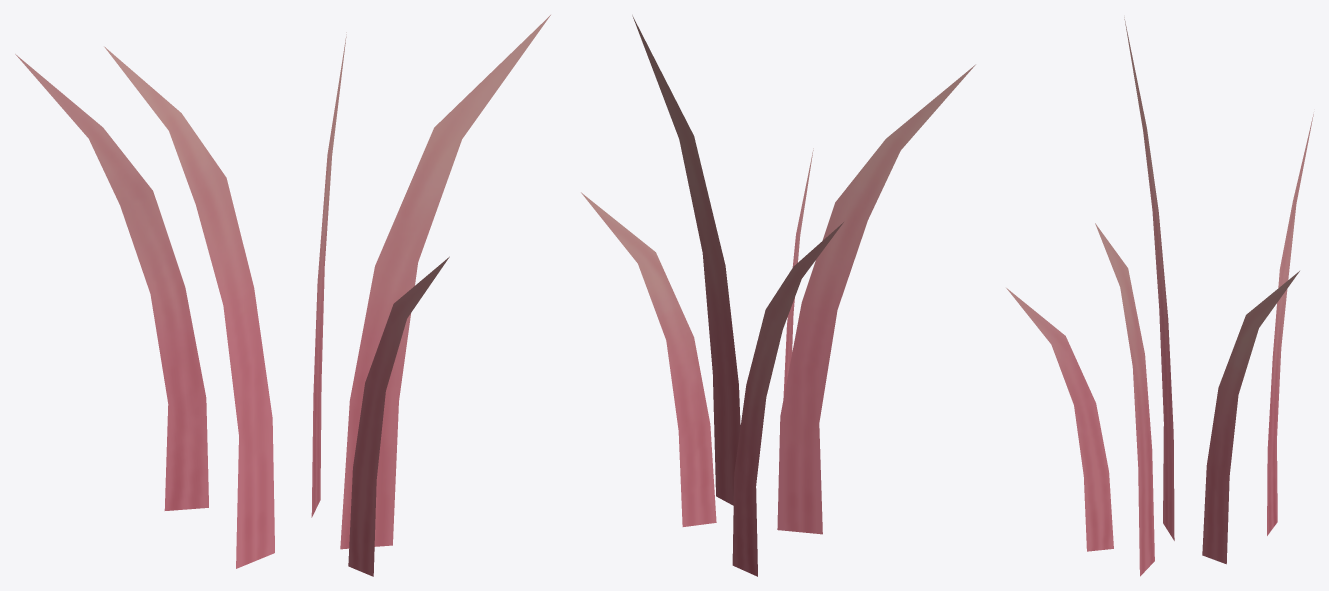
The model's file is Pinkgrass_1.FBX.
3 views of the same model, side by side, from view 1: azimuth 30°, elevation 25°; view 2: azimuth 150°, elevation 25°; view 3: azimuth 270°, elevation 25° (orthographic). The views are drawn at different scales.
Visible parts, largest first — view 1: Line013; view 2: Line013; view 3: Line013.
Boxes of the visible parts, x1,y1,x2,y2 form: Line013: [15, 15, 550, 576]; Line013: [581, 15, 975, 576]; Line013: [1006, 17, 1313, 576].
Size of the model in its own units: 1.88 by 2.43 by 1.51.
